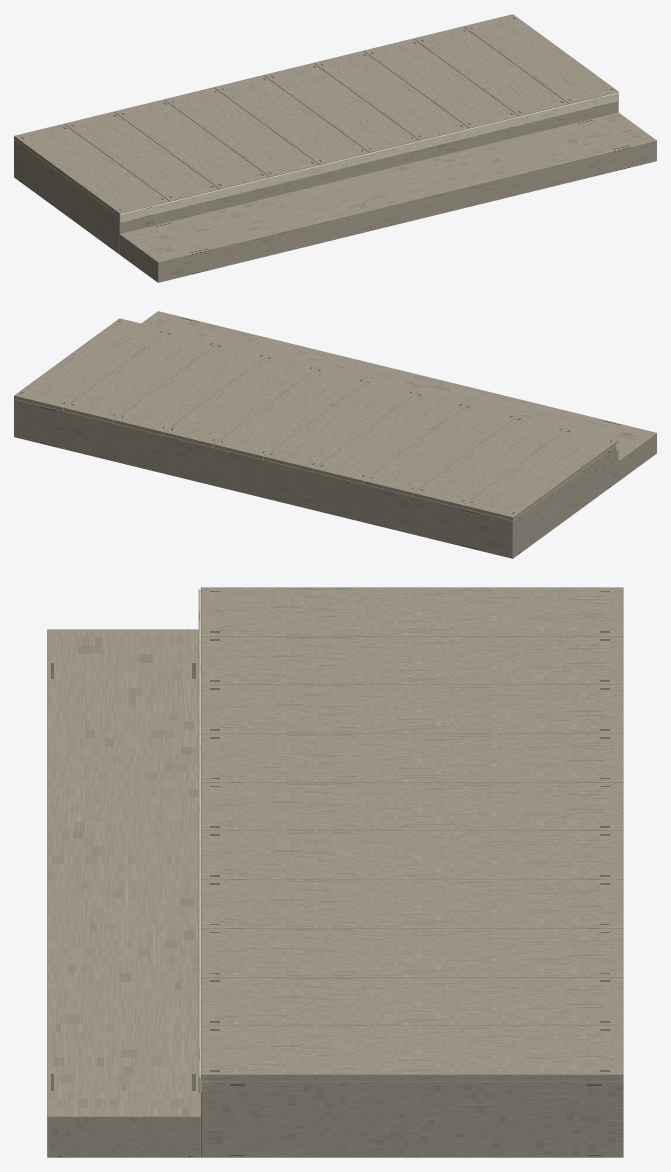
The model's file is house_02_porch_deck.glb.
3 views of the same model, one above another, from view 1: azimuth 30°, elevation 25°; view 2: azimuth 150°, elevation 25°; view 3: azimuth 270°, elevation 25° (orthographic). The views are drawn at different scales.
Visible parts, largest first — view 1: house_02_porch_deck; view 2: house_02_porch_deck; view 3: house_02_porch_deck.
Part boxes in pixels (x1,y1,x2,y2): house_02_porch_deck: [14, 14, 656, 282]; house_02_porch_deck: [14, 311, 656, 558]; house_02_porch_deck: [47, 587, 623, 1157].
Bounding box in the file's own units: 3 × 0.24 × 1.5.
2 materials, 2 textured.
